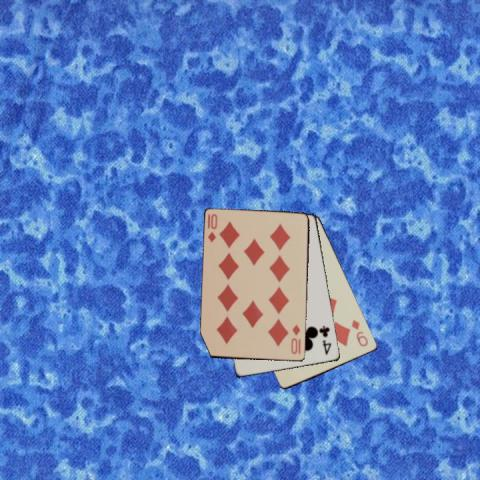10d: (204, 211, 218, 244), (288, 322, 301, 355)
4c: (316, 323, 332, 356)
9d: (349, 317, 370, 348)
